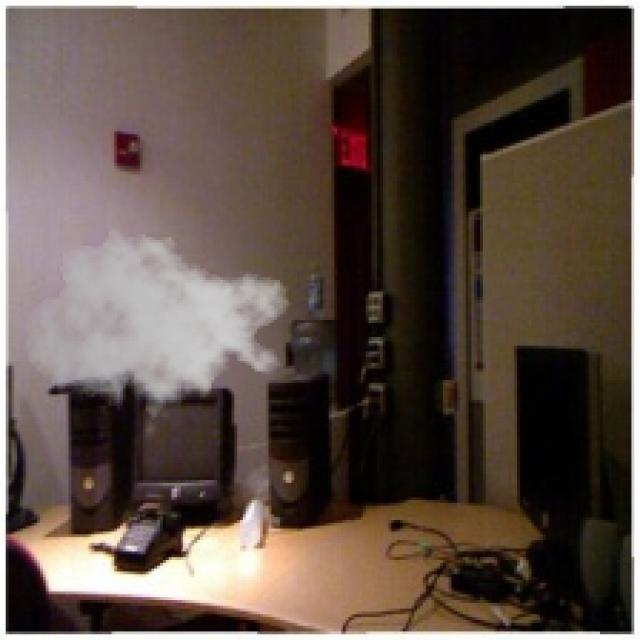smoke: (23, 223, 291, 428)
